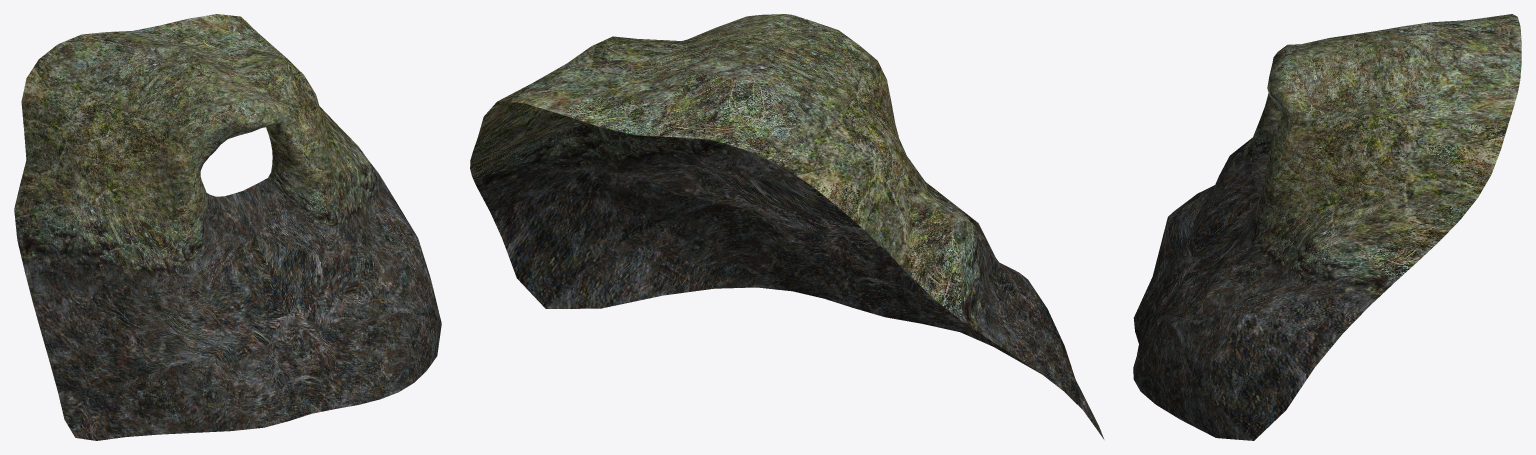
Rendered from thm_all_cave_s02_damprock_r0_mesh_l1.fbx.
3 views of the same model, side by side, from view 1: azimuth 30°, elevation 25°; view 2: azimuth 150°, elevation 25°; view 3: azimuth 270°, elevation 25° (orthographic). The views are drawn at different scales.
Parts seen in each view (by area): view 1: mesh_node; view 2: mesh_node; view 3: mesh_node.
Boxes of the visible parts, box(x1,y1,x2,y2) form: mesh_node: box(14, 14, 441, 440); mesh_node: box(470, 14, 1104, 439); mesh_node: box(1133, 14, 1521, 440).
Size of the model in its own units: 48.97 by 34.18 by 39.36.
